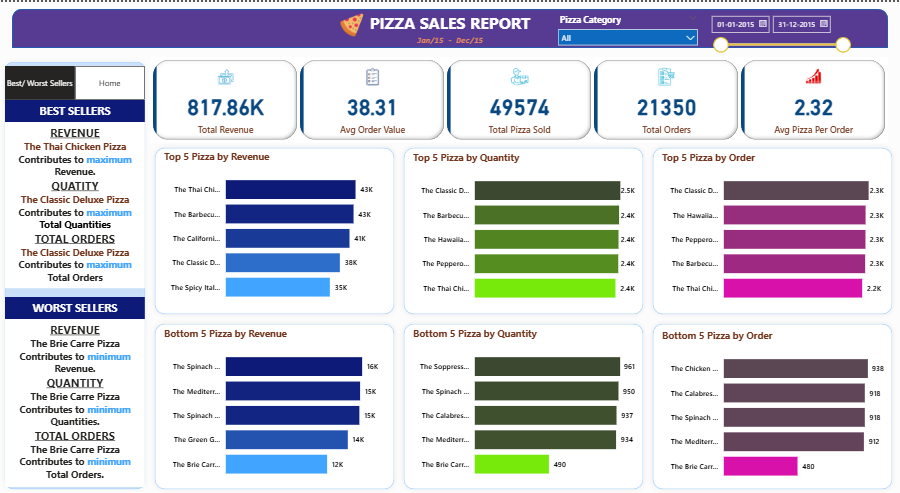

The dashboard page shown, as its layout file describes it:
{"tool":"powerbi","page":{"name":"Best/ Worst Sellers","canvas":[1500,820],"ordinal":1},"visuals":[{"type":"cardVisual","fields":{"Data":["pizza_sales.Total Revenue","pizza_sales.Avg Order Value","pizza_sales.Total Pizza Sold","pizza_sales.Total Orders","pizza_sales.Avg Pizza Per Order"]},"box":[250,91.7,1230,143.3],"z":0},{"type":"shape","box":[20,11.7,1460,65],"z":1000},{"type":"textbox","box":[603.3,11.7,293.3,48.3],"z":2000},{"type":"textbox","box":[681.7,50,136.7,26.7],"z":3000},{"type":"image","box":[548.3,13.3,75,50],"z":4000},{"type":"shape","box":[250,235,415,293.3],"z":5000},{"type":"shape","box":[0,91.7,250,728.3],"z":6000},{"type":"textbox","box":[8.3,163.3,233.3,36.7],"z":7000},{"type":"textbox","box":[8.3,200,233.3,276.7],"z":8000},{"type":"textbox","box":[8.3,491.7,233.3,36.7],"z":9000},{"type":"textbox","box":[8.3,528.3,233.3,280],"z":10000},{"type":"slicer","fields":{"Values":["pizza_sales.pizza_category"]},"box":[920,13.3,253.3,63.3],"z":11000},{"type":"slicer","fields":{"Values":["pizza_sales.order_date"]},"box":[1173.3,13.3,253.3,78.3],"z":12000},{"type":"shape","box":[665,235,415,293.3],"z":13000},{"type":"shape","box":[1080,235,415,293.3],"z":14000},{"type":"shape","box":[250,528.3,415,291.7],"z":15000},{"type":"shape","box":[665,528.3,415,291.7],"z":16000},{"type":"shape","box":[1080,528.3,415,291.7],"z":17000},{"type":"barChart","title":"Top 5 Pizza by Revenue","fields":{"Category":["pizza_sales.pizza_name"],"Y":["pizza_sales.Total Revenue"]},"box":[268.3,246.7,380,266.7],"z":18000},{"type":"barChart","title":"Bottom 5 Pizza by Revenue","fields":{"Category":["pizza_sales.pizza_name"],"Y":["pizza_sales.Total Revenue"]},"box":[268.3,541.7,380,266.7],"z":19000},{"type":"barChart","title":"Top 5 Pizza by Quantity","fields":{"Category":["pizza_sales.pizza_name"],"Y":["pizza_sales.Total Pizza Sold"]},"box":[683.3,248.3,380,266.7],"z":20000},{"type":"barChart","title":"Bottom 5 Pizza by Quantity","fields":{"Category":["pizza_sales.pizza_name"],"Y":["pizza_sales.Total Pizza Sold"]},"box":[683.3,541.7,380,266.7],"z":21000},{"type":"barChart","title":"Top 5 Pizza by Order","fields":{"Category":["pizza_sales.pizza_name"],"Y":["pizza_sales.Total Orders"]},"box":[1098.3,248.3,380,266.7],"z":22000},{"type":"barChart","title":"Bottom 5 Pizza by Order","fields":{"Category":["pizza_sales.pizza_name"],"Y":["pizza_sales.Total Orders"]},"box":[1098.3,545,380,266.7],"z":23000},{"type":"pageNavigator","box":[8.3,106.7,116.7,56.7],"z":24000},{"type":"pageNavigator","box":[125,106.7,116.7,56.7],"z":25000}]}

Visuals, with their boxes in screenshot pixels (x1, y1, x2, y2), scaled from the page's 1500x820 canvas onto the 900x493 screenshot:
cardVisual - pizza_sales.Total Revenue x pizza_sales.Avg Order Value: bbox=(150, 55, 888, 141)
shape: bbox=(12, 7, 888, 46)
textbox: bbox=(362, 7, 538, 36)
textbox: bbox=(409, 30, 491, 46)
image: bbox=(329, 8, 374, 38)
shape: bbox=(150, 141, 399, 318)
shape: bbox=(0, 55, 150, 492)
textbox: bbox=(5, 98, 145, 120)
textbox: bbox=(5, 120, 145, 287)
textbox: bbox=(5, 296, 145, 318)
textbox: bbox=(5, 318, 145, 486)
slicer - pizza_sales.pizza_category: bbox=(552, 8, 704, 46)
slicer - pizza_sales.order_date: bbox=(704, 8, 856, 55)
shape: bbox=(399, 141, 648, 318)
shape: bbox=(648, 141, 897, 318)
shape: bbox=(150, 318, 399, 492)
shape: bbox=(399, 318, 648, 492)
shape: bbox=(648, 318, 897, 492)
"Top 5 Pizza by Revenue" barChart: bbox=(161, 148, 389, 309)
"Bottom 5 Pizza by Revenue" barChart: bbox=(161, 326, 389, 486)
"Top 5 Pizza by Quantity" barChart: bbox=(410, 149, 638, 310)
"Bottom 5 Pizza by Quantity" barChart: bbox=(410, 326, 638, 486)
"Top 5 Pizza by Order" barChart: bbox=(659, 149, 887, 310)
"Bottom 5 Pizza by Order" barChart: bbox=(659, 328, 887, 488)
pageNavigator: bbox=(5, 64, 75, 98)
pageNavigator: bbox=(75, 64, 145, 98)
